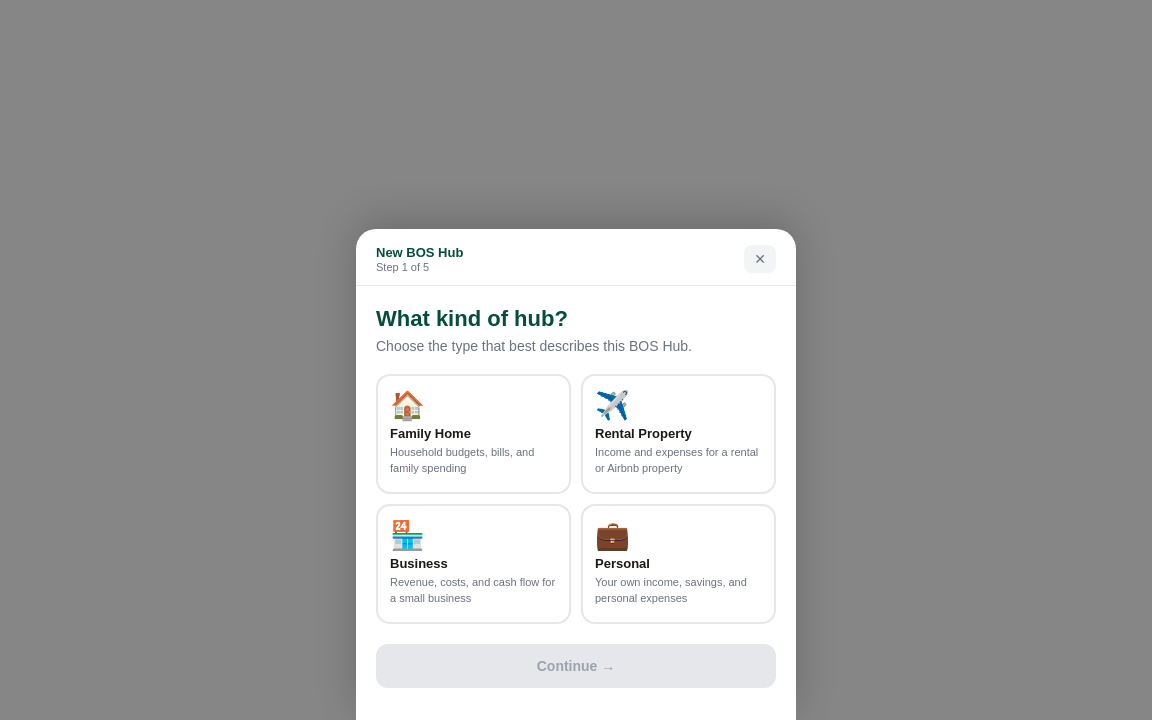
Test: CreateHubSheet › shows validation error when name is empty and Continue clicked
Click the button with aria-label "Select Family Home" at point(474, 434), box [376, 374, 571, 494]
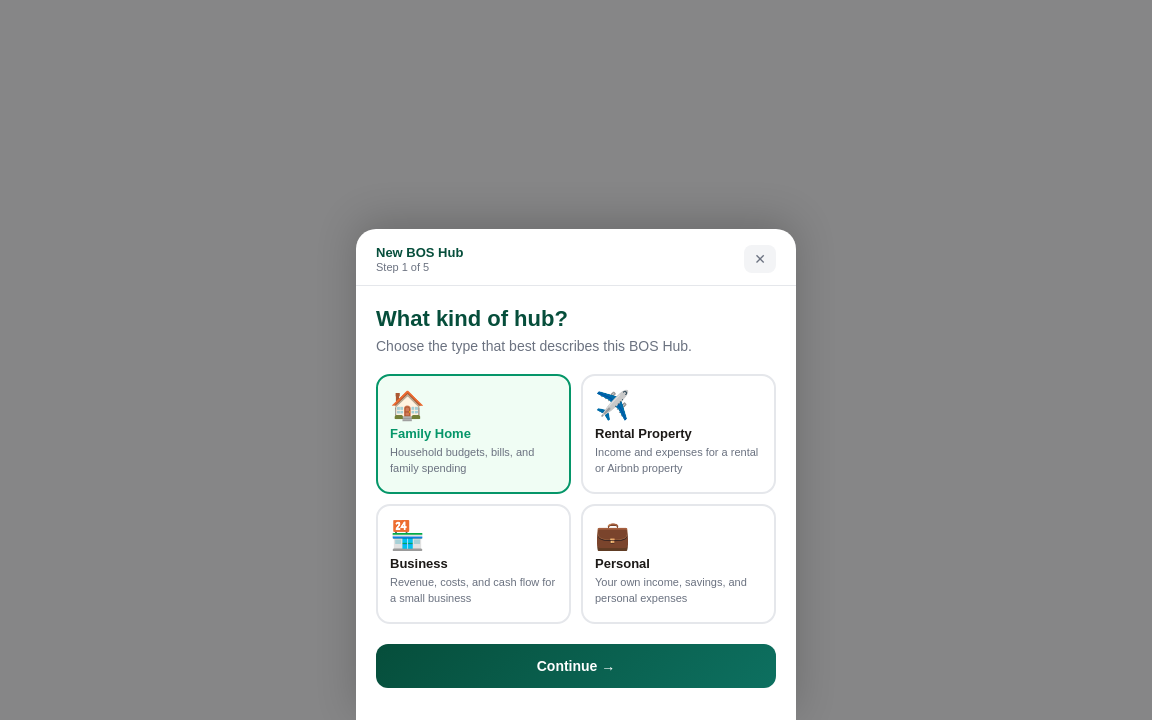
Click the button "Continue →" at point(576, 666), box [376, 644, 776, 688]
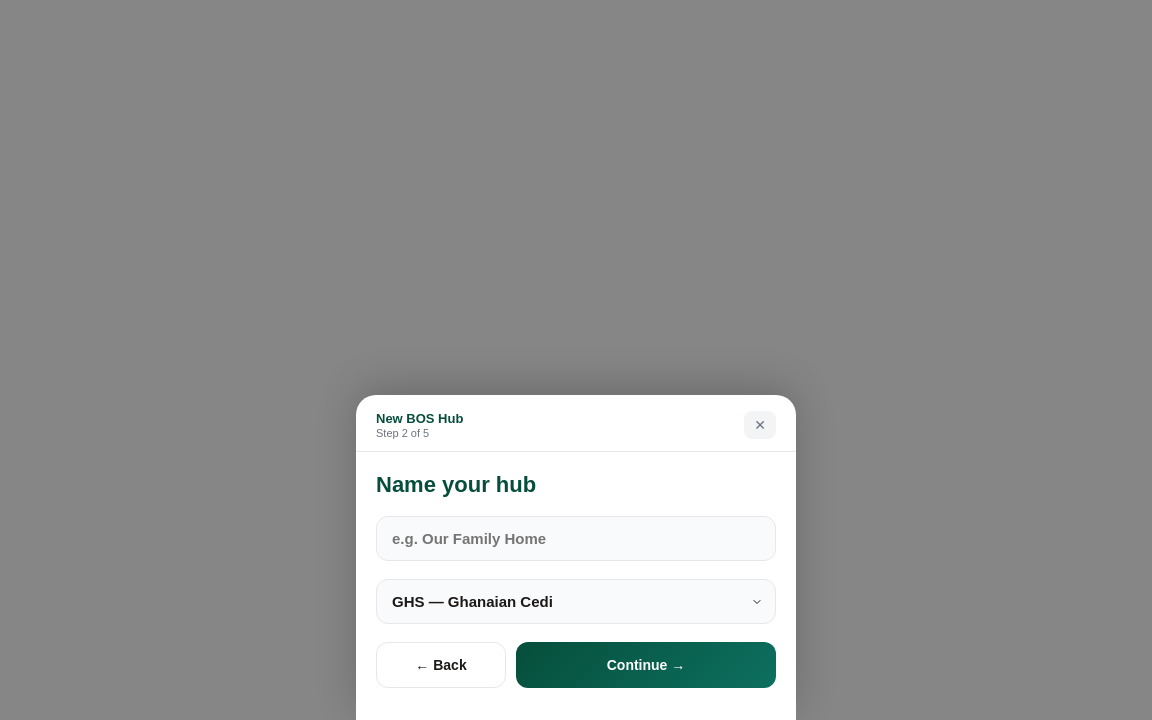
Click the button "Continue →" at point(646, 665), box [516, 642, 776, 688]
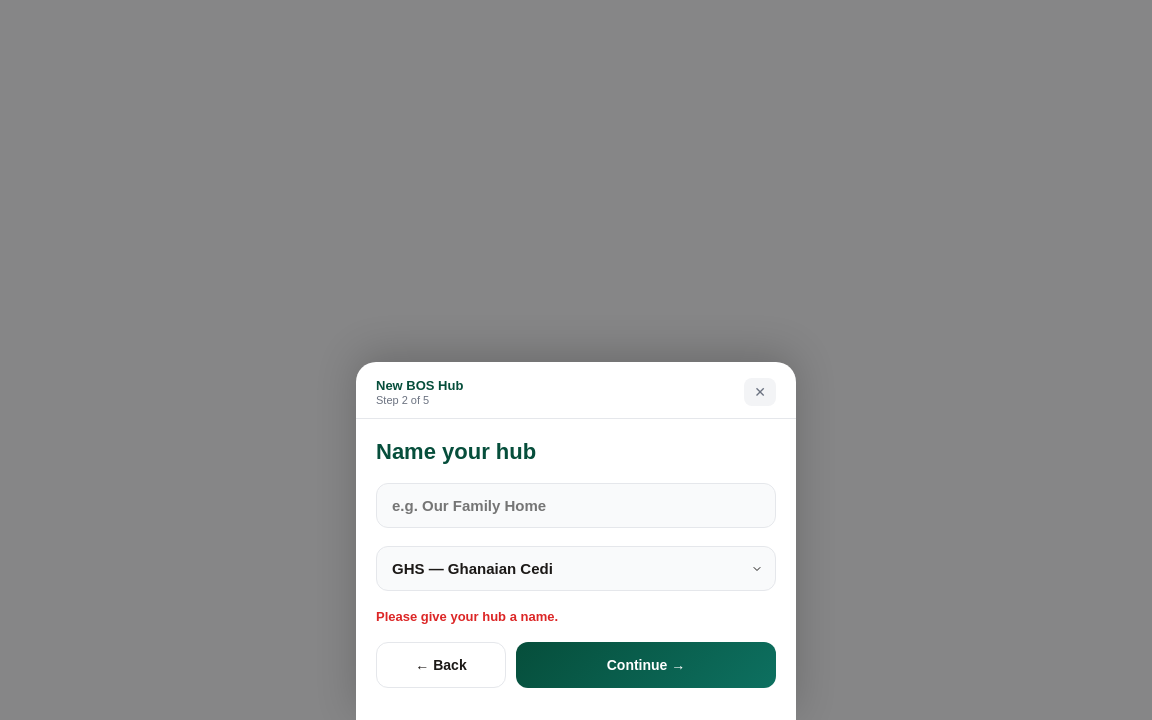
Now the text "Please give your hub a name." is shown, box [376, 609, 558, 624]
